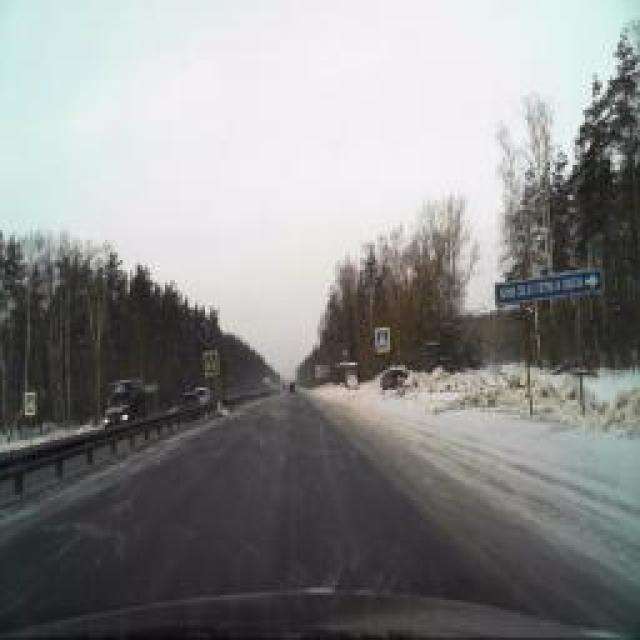sign: (204, 353, 218, 375), (376, 329, 389, 351)
